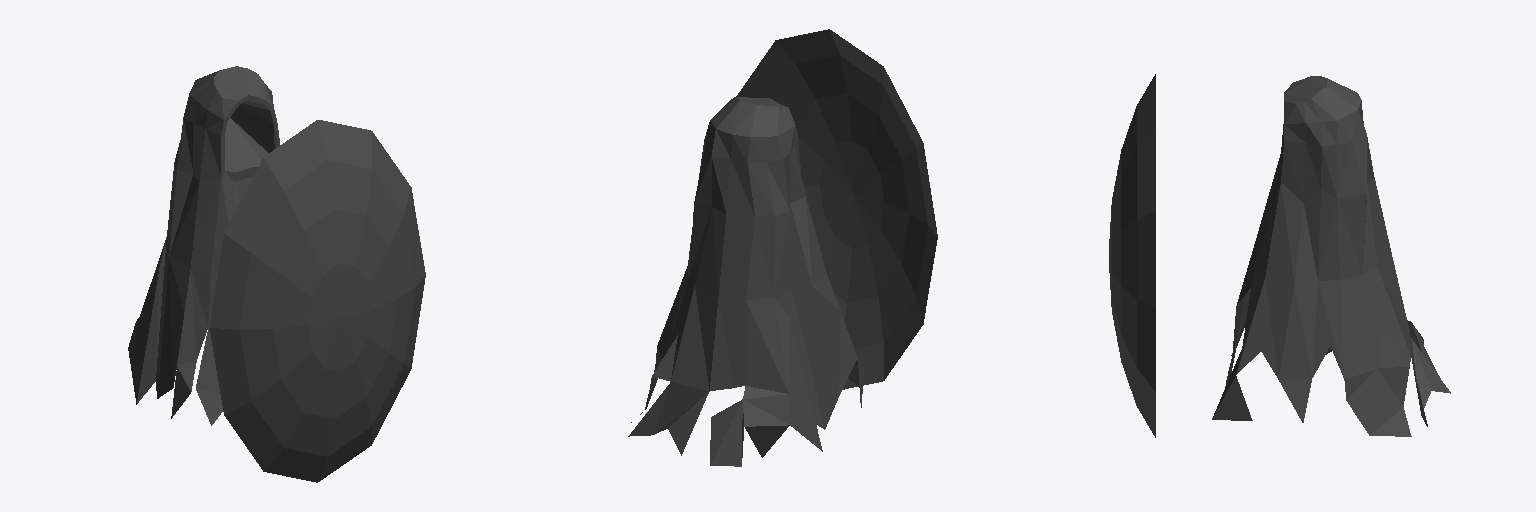
Rendered from boss.obj.
The picture shows the model from 3 angles: view 1: azimuth 30°, elevation 25°; view 2: azimuth 150°, elevation 25°; view 3: azimuth 270°, elevation 25°; orthographic projection.
Visible parts, largest first — view 1: g Cylinder001_Cylinder001; view 2: g Cylinder001_Cylinder001; view 3: g Cylinder001_Cylinder001.
Part boxes in pixels (bbox=[...]): g Cylinder001_Cylinder001: bbox=[128, 66, 425, 482]; g Cylinder001_Cylinder001: bbox=[628, 29, 937, 466]; g Cylinder001_Cylinder001: bbox=[1109, 74, 1450, 437].
Bounding box in the file's own units: 34.76 × 55.77 × 47.7.